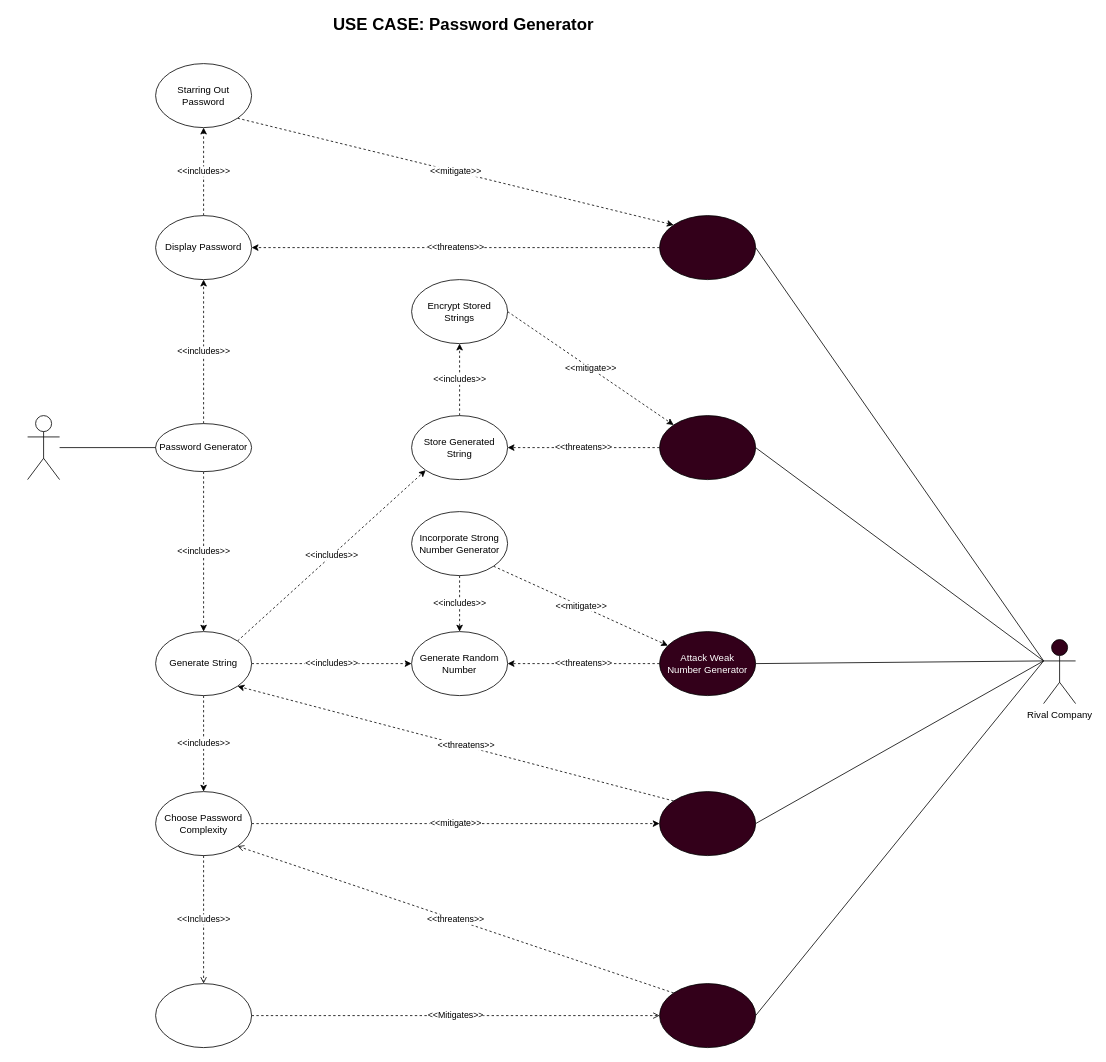
Image size: 1106x1062. Some labels were removed from this diagram. Each missing label, with the box of its shape:
Access Previously Generated Strings: (659, 415, 756, 480)
Administrative User: (27, 415, 60, 480)
Disable Security Feature: (659, 983, 756, 1048)
Enforce Code Signing: (155, 983, 252, 1048)
Guess String: (659, 791, 756, 856)
Steal Plaintext Password: (659, 215, 756, 280)
